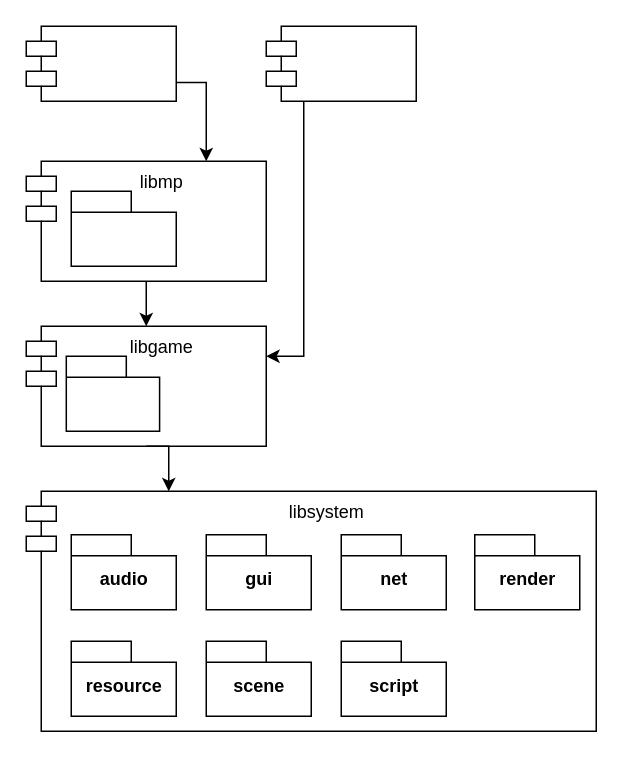
This 623x758 diagram has some shape labels left out. The centre of each missing label's shape, as x and y in pixels:
game: the point at 112,393
mp: the point at 123,228
reone: the point at 100,63
reone-tools: the point at 340,63
